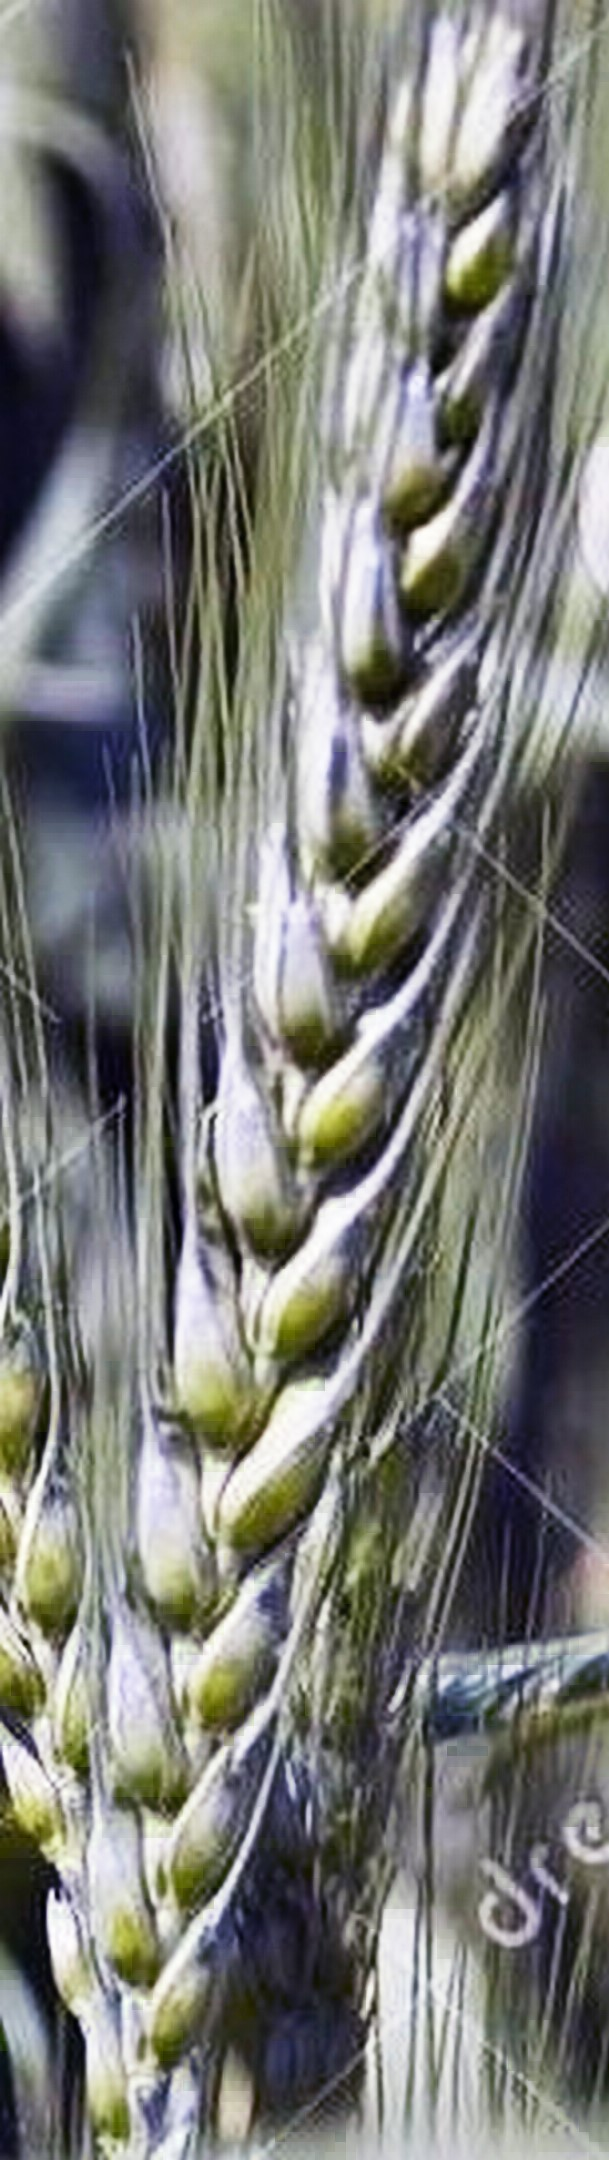Healthy Wheat: (112, 19, 609, 1901)
